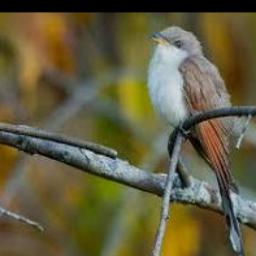Cuckoo: (148, 26, 247, 256)
